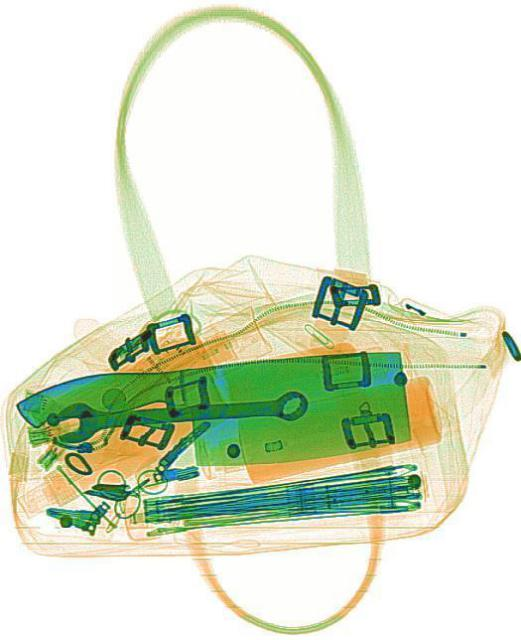Knife: (12, 346, 413, 478)
